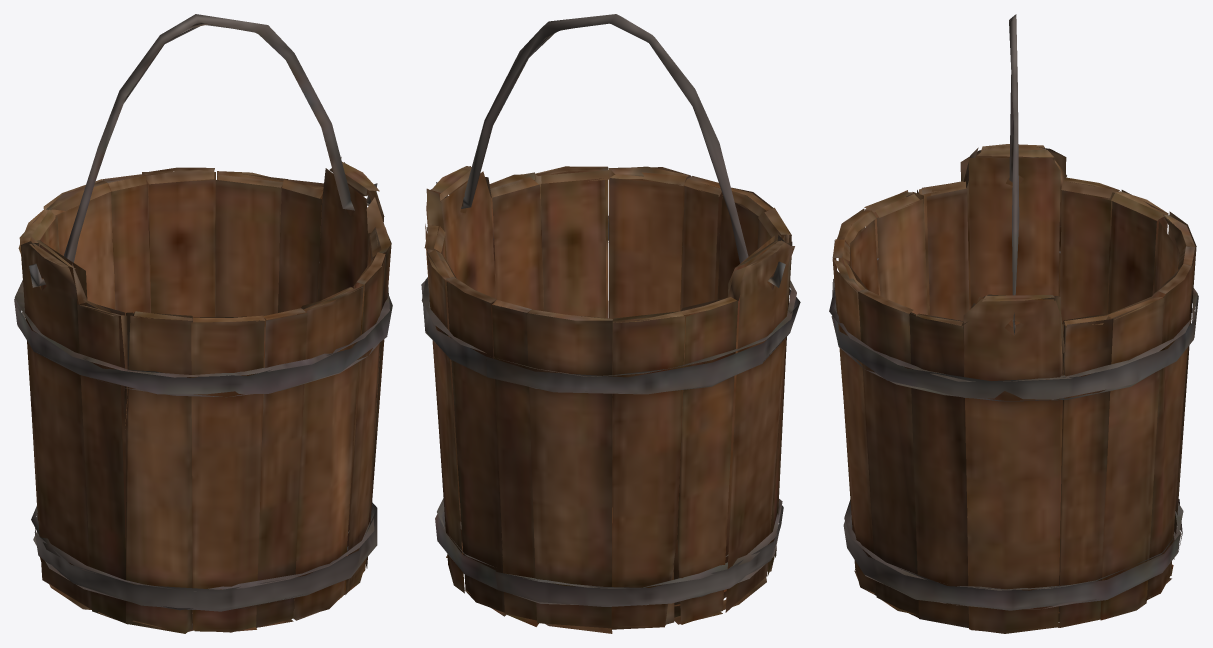
The model's file is bucket.glb.
The picture shows the model from 3 angles, left to right: view 1: azimuth 30°, elevation 25°; view 2: azimuth 150°, elevation 25°; view 3: azimuth 270°, elevation 25°; orthographic projection.
Visible parts, largest first — view 1: wooden_bucket_01, wooden_bucket_01_handle; view 2: wooden_bucket_01, wooden_bucket_01_handle; view 3: wooden_bucket_01, wooden_bucket_01_handle.
Part boxes in pixels (left/top/right/bottom): wooden_bucket_01: left=14, top=157, right=392, bottom=633; wooden_bucket_01_handle: left=29, top=14, right=377, bottom=287; wooden_bucket_01: left=421, top=166, right=800, bottom=633; wooden_bucket_01_handle: left=436, top=14, right=785, bottom=287; wooden_bucket_01: left=829, top=144, right=1198, bottom=633; wooden_bucket_01_handle: left=1009, top=14, right=1019, bottom=334.
Bounding box in the file's own units: 0.3661 × 0.5556 × 0.341.
1 material, 1 textured.
